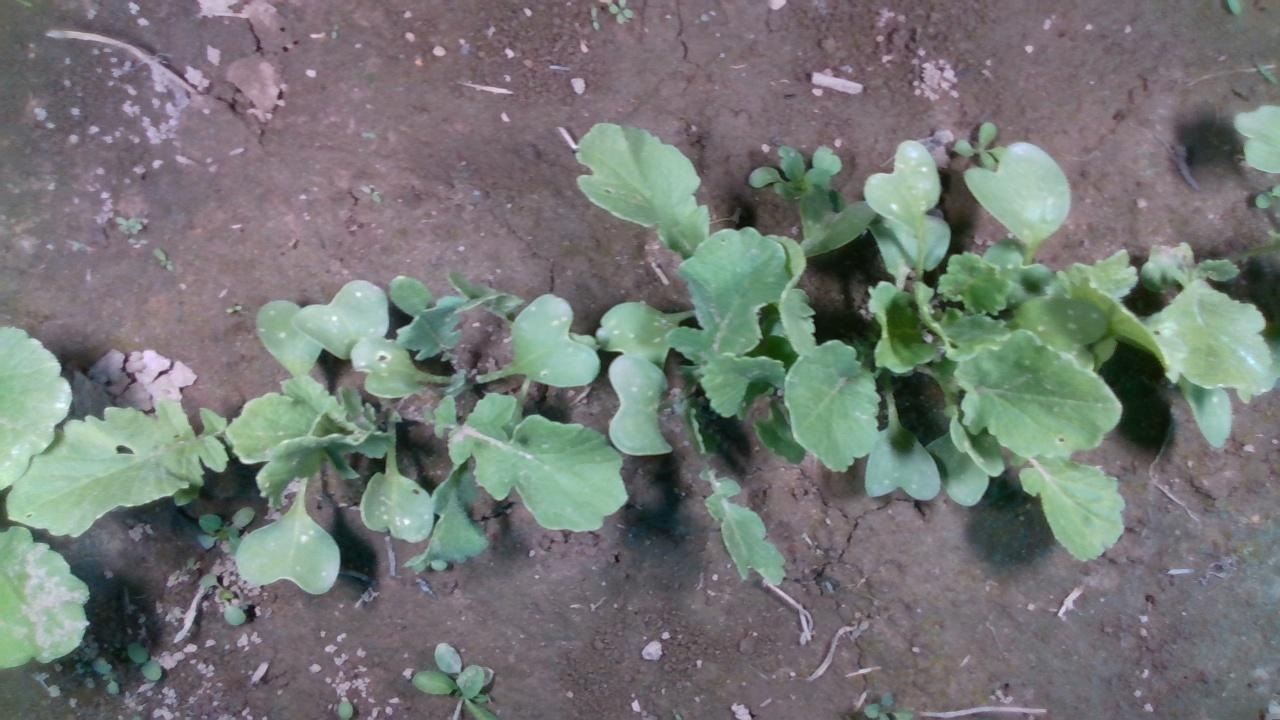weed: (125, 640, 161, 682), (150, 244, 174, 271), (357, 182, 382, 205), (222, 302, 243, 313)
